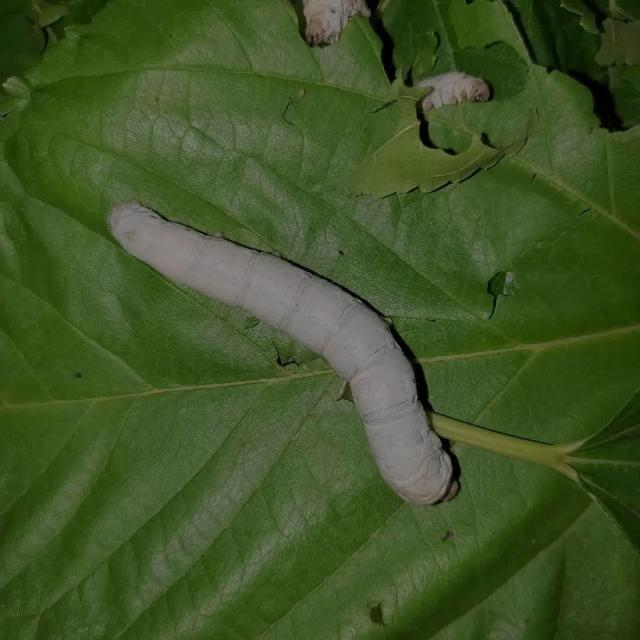Healthy: (64, 160, 494, 530)
